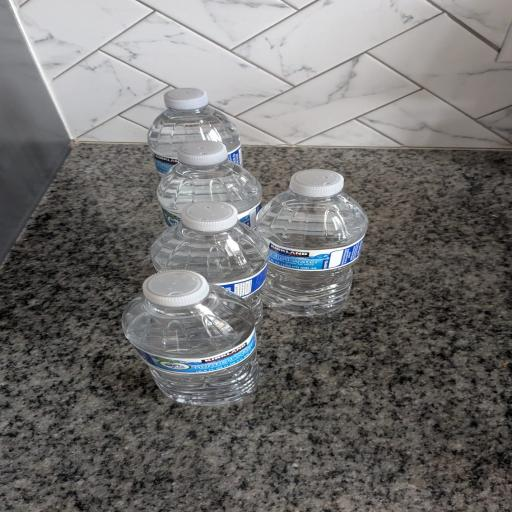waterbottle: (123, 271, 258, 405), (258, 170, 367, 315), (151, 202, 268, 322), (157, 141, 261, 227), (148, 88, 242, 175)
